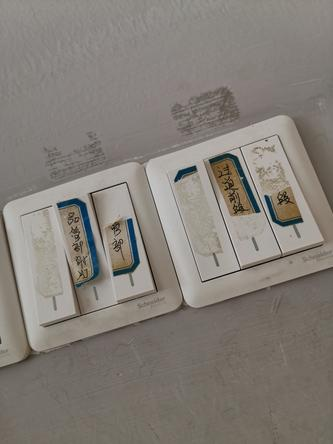switch: (238, 133, 327, 253), (165, 157, 240, 287), (206, 147, 281, 269), (90, 179, 159, 300), (51, 194, 116, 312), (19, 205, 76, 329)
